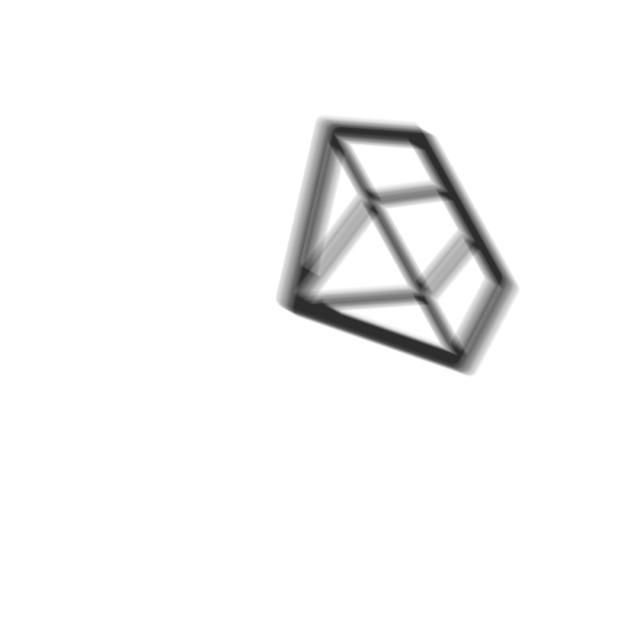diamond: (269, 110, 525, 395)
